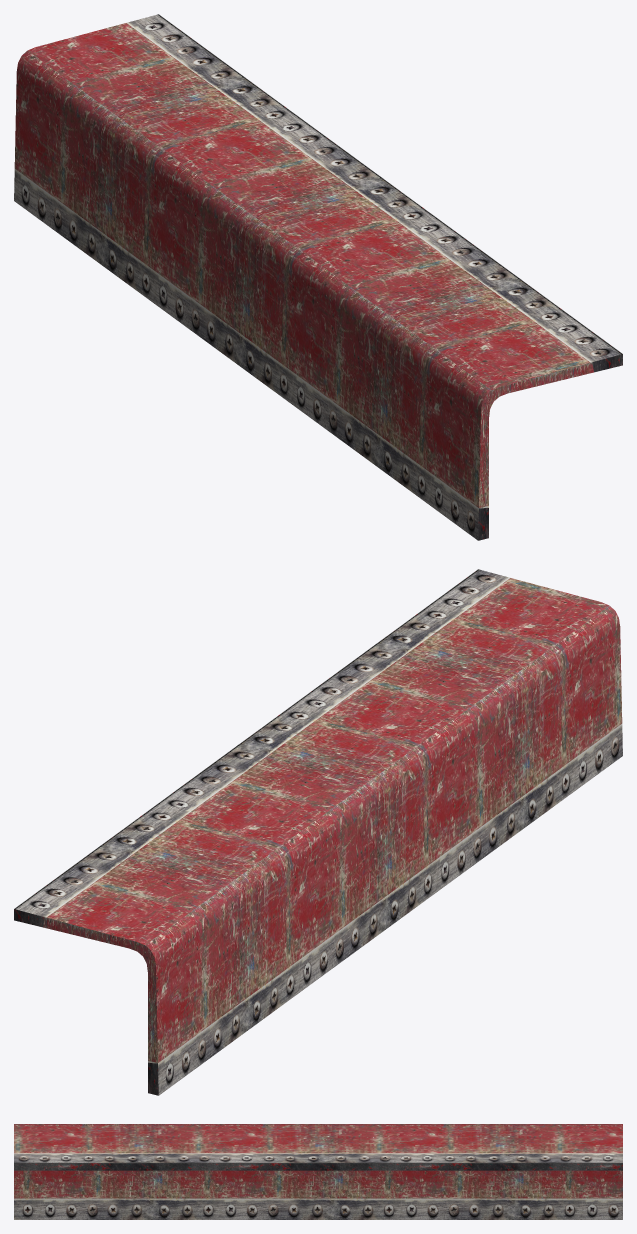
The model's file is MOD_WallProtect_300.FBX.
3 views of the same model, one above another, from view 1: azimuth 30°, elevation 25°; view 2: azimuth 150°, elevation 25°; view 3: azimuth 270°, elevation 25° (orthographic). The views are drawn at different scales.
Parts seen in each view (by area): view 1: MOD_WallProtect_300; view 2: MOD_WallProtect_300; view 3: MOD_WallProtect_300.
Boxes of the visible parts, x1,y1,x2,y2 form: MOD_WallProtect_300: (14, 14, 622, 540); MOD_WallProtect_300: (14, 569, 622, 1095); MOD_WallProtect_300: (14, 1124, 622, 1219).
Bounding box in the file's own units: 54.07 × 54.07 × 300.
Materials: 1 (1 with a texture image).
